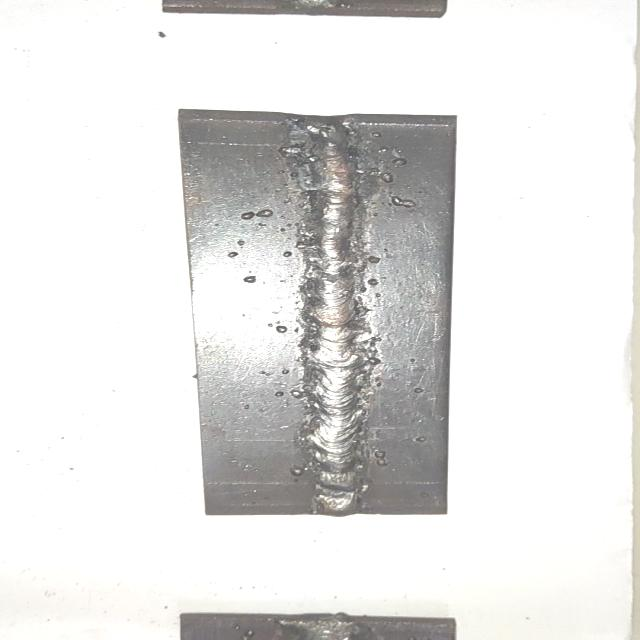Bad Weld: (306, 125, 364, 513)
Defect: (290, 118, 368, 161)
